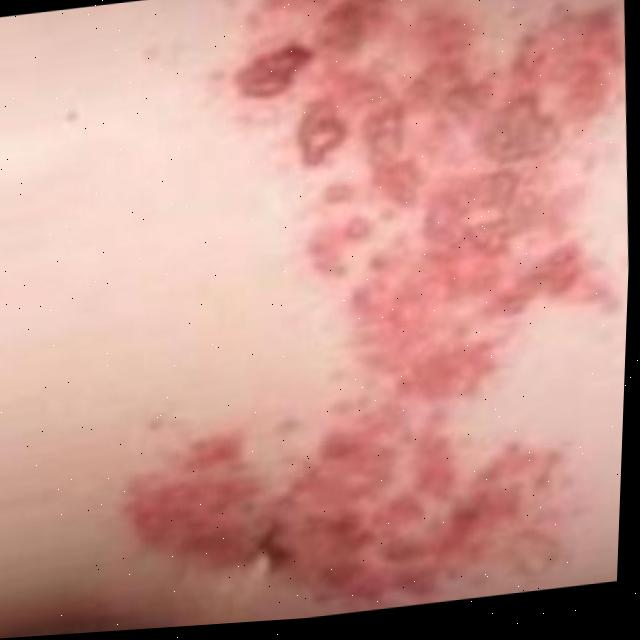Shingles: (84, 0, 640, 633)
